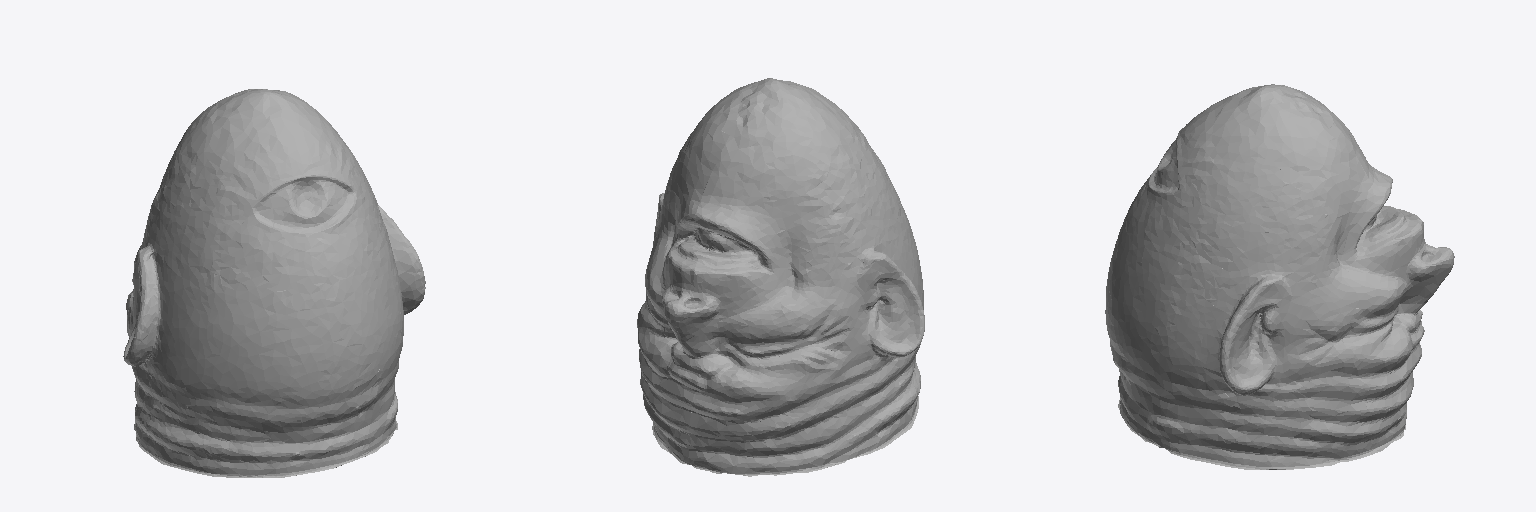
The model's file is egg.obj.
3 views of the same model, side by side, from view 1: azimuth 30°, elevation 25°; view 2: azimuth 150°, elevation 25°; view 3: azimuth 270°, elevation 25° (orthographic).
Size of the model in its own units: 3.09 by 3.52 by 3.3.